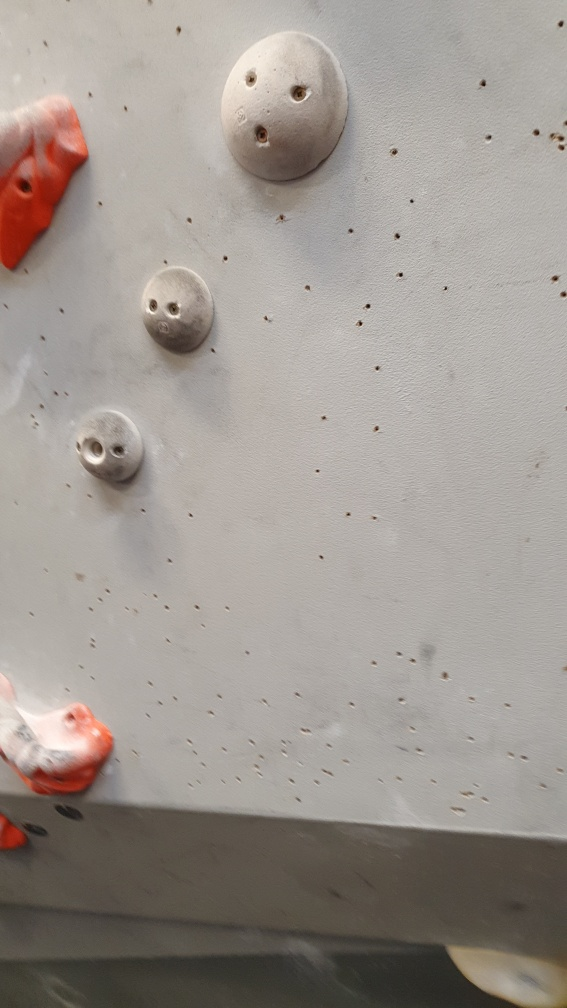Hand Start: (54, 801, 87, 825), (22, 818, 50, 838)
Jug: (1, 87, 94, 271), (1, 667, 113, 800)
Sloper: (217, 27, 353, 184), (137, 260, 219, 359), (71, 405, 150, 488)
